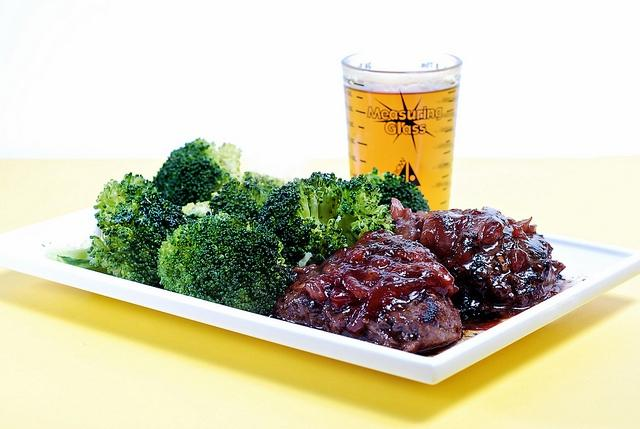broccoli: (156, 213, 296, 316), (256, 171, 396, 270), (88, 172, 186, 286), (152, 137, 242, 206), (364, 166, 431, 212), (236, 170, 292, 214), (209, 176, 262, 222)
